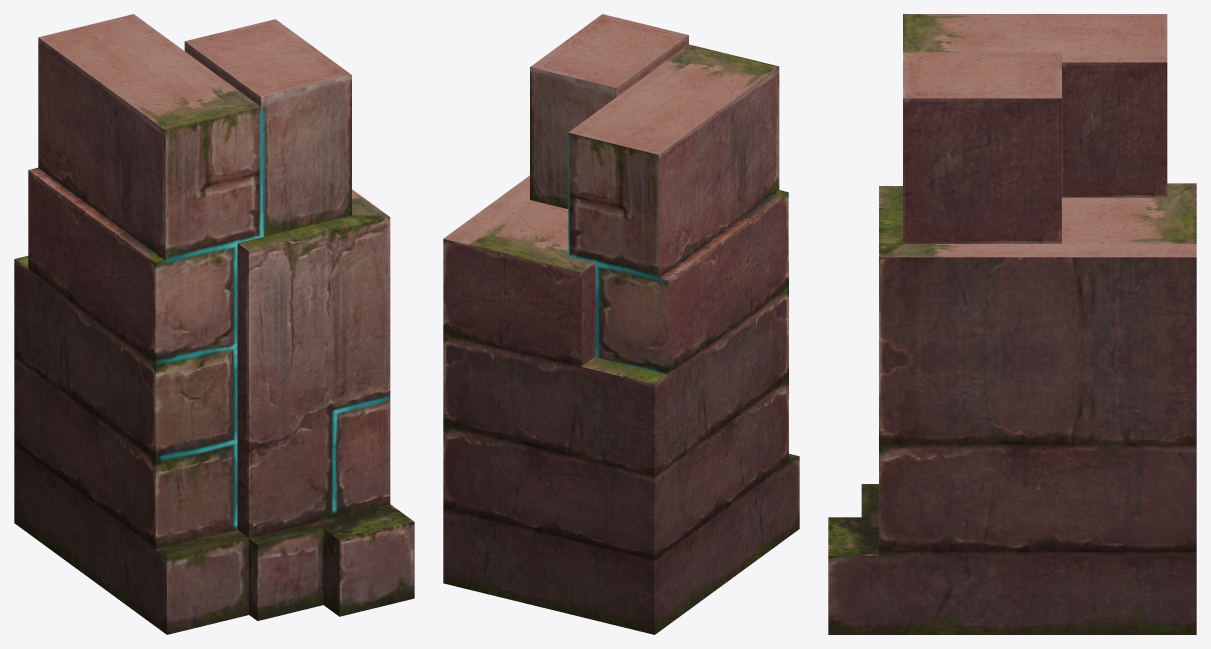
File: yw_huanghunhupan_shiqiang01.FBX
The picture shows the model from 3 angles, left to right: view 1: azimuth 30°, elevation 25°; view 2: azimuth 150°, elevation 25°; view 3: azimuth 270°, elevation 25°; orthographic projection. The views are drawn at different scales.
Visible parts, largest first — view 1: yw_huanghunhupan_shiqiang01; view 2: yw_huanghunhupan_shiqiang01; view 3: yw_huanghunhupan_shiqiang01.
Part boxes in pixels (x1,y1,x2,y2): yw_huanghunhupan_shiqiang01: (14,14,414,634); yw_huanghunhupan_shiqiang01: (443,14,799,634); yw_huanghunhupan_shiqiang01: (828,14,1196,634).
Bounding box in the file's own units: 224 × 483 × 308.
